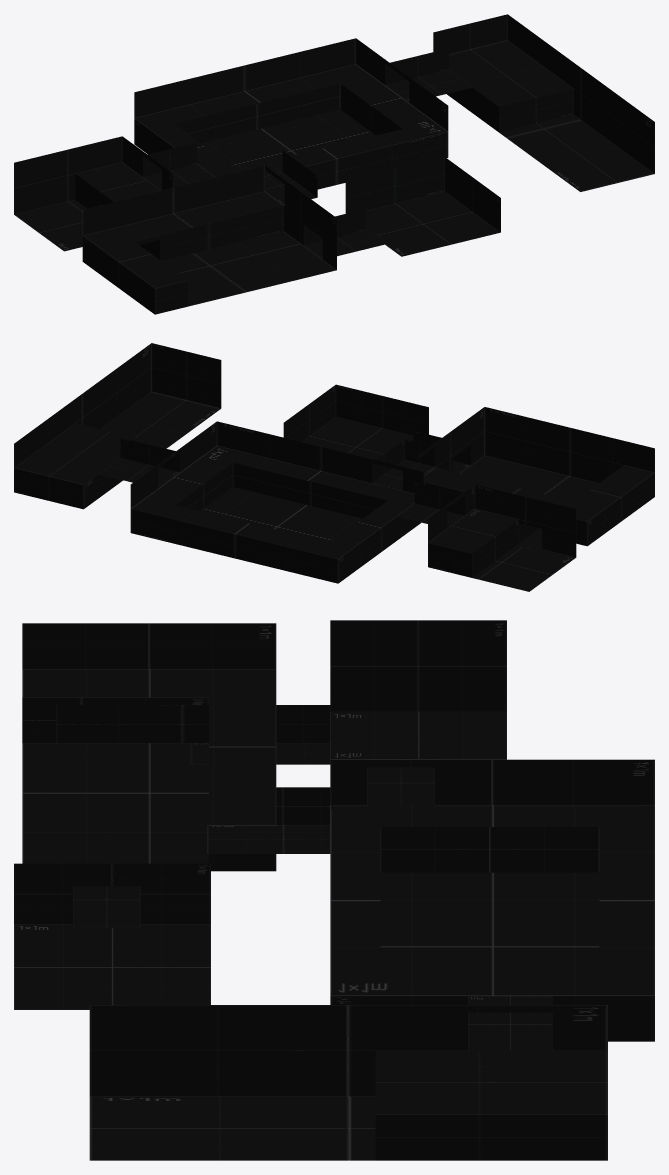
File: main_level.gltf
3 renders of one model, top to bottom at view 1: azimuth 30°, elevation 25°; view 2: azimuth 150°, elevation 25°; view 3: azimuth 270°, elevation 25°, orthographic. The views are drawn at different scales.
Visible parts, largest first — view 1: Room2, Overhang34, Overhang2, Overhang43, Overhang24; view 2: Room2, Overhang34, Overhang43, Overhang2, Overhang24; view 3: Room2, Overhang34, Overhang2, Overhang43, Overhang24.
Part boxes in pixels (left/top/right/bottom): Room2: left=14, top=14, right=654, bottom=306; Overhang34: left=134, top=64, right=448, bottom=189; Overhang2: left=82, top=191, right=283, bottom=314; Overhang43: left=447, top=40, right=573, bottom=132; Overhang24: left=75, top=162, right=160, bottom=208; Room2: left=14, top=343, right=654, bottom=591; Overhang34: left=130, top=445, right=420, bottom=583; Overhang43: left=14, top=423, right=145, bottom=509; Overhang2: left=424, top=465, right=654, bottom=546; Overhang24: left=428, top=508, right=518, bottom=577; Room2: left=14, top=620, right=654, bottom=1160; Overhang34: left=330, top=805, right=654, bottom=1041; Overhang2: left=22, top=669, right=276, bottom=871; Overhang43: left=375, top=1051, right=607, bottom=1160; Overhang24: left=330, top=718, right=506, bottom=759.
Size of the model in its own units: 63.1 by 6 by 38.1.
Materials: 1 (1 with a texture image).
